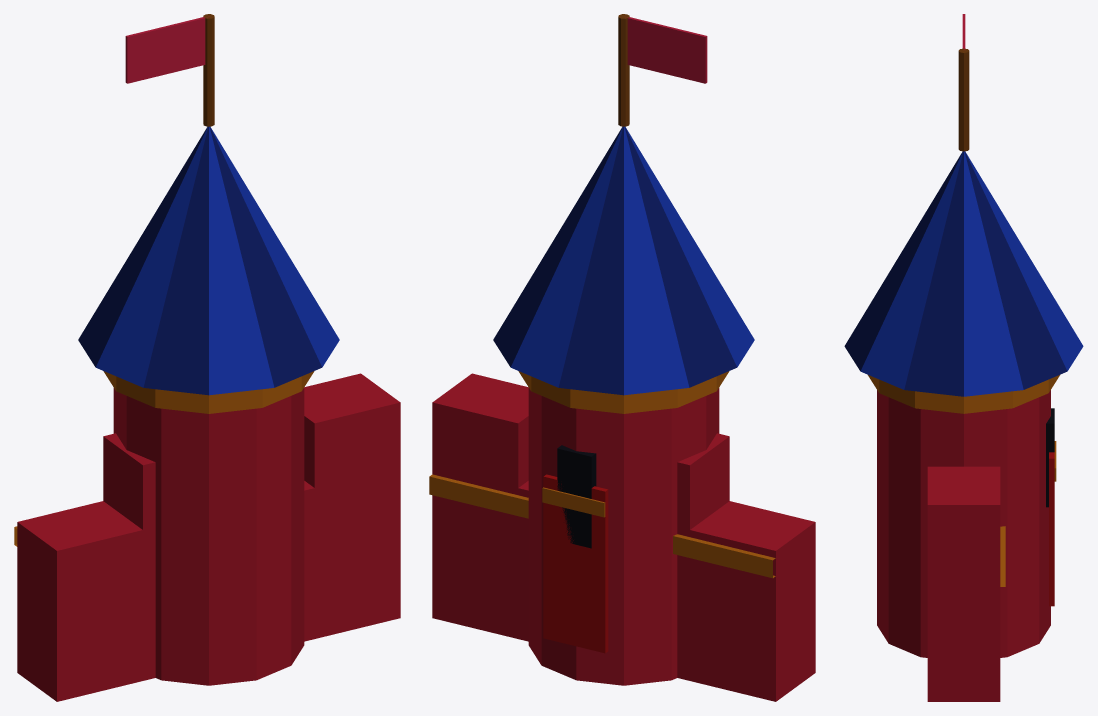
File: Carnival_Run_Castle_Tower_Side.fbx
3 views of the same model, side by side, from view 1: azimuth 30°, elevation 25°; view 2: azimuth 150°, elevation 25°; view 3: azimuth 270°, elevation 25° (orthographic). The views are drawn at different scales.
Parts seen in each view (by area): view 1: Carnival_Run_Castle_Tower_Side; view 2: Carnival_Run_Castle_Tower_Side; view 3: Carnival_Run_Castle_Tower_Side.
Part boxes in pixels (left/top/right/bottom): Carnival_Run_Castle_Tower_Side: left=14, top=14, right=400, bottom=701; Carnival_Run_Castle_Tower_Side: left=429, top=14, right=815, bottom=701; Carnival_Run_Castle_Tower_Side: left=844, top=14, right=1083, bottom=701.
Size of the model in its own units: 1 by 1.75 by 0.66.
